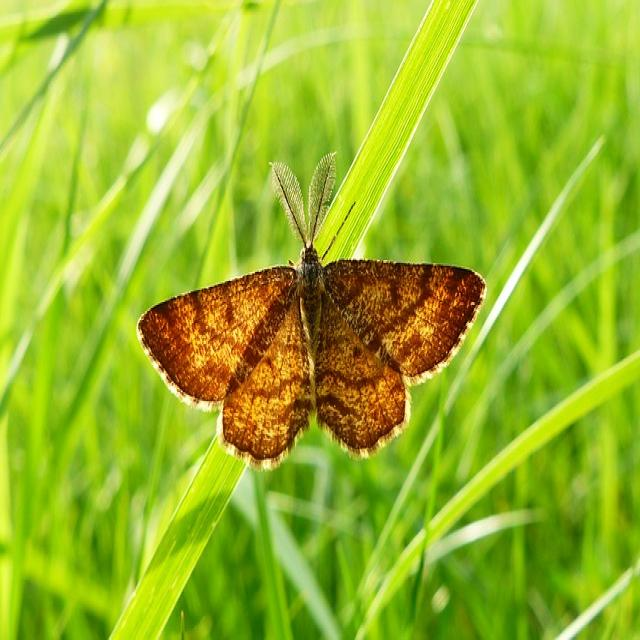butterfly: (138, 168, 486, 469)
